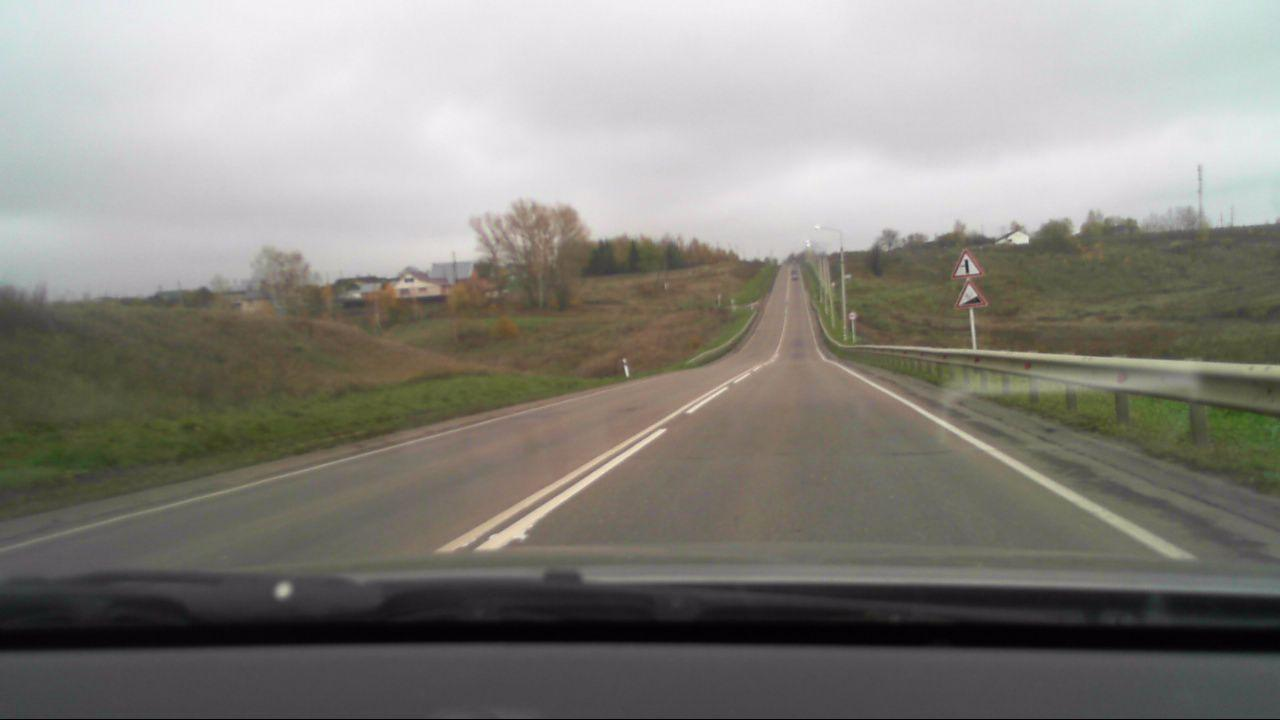1_14: (953, 280, 986, 307)
2_3_3: (951, 248, 983, 276)
